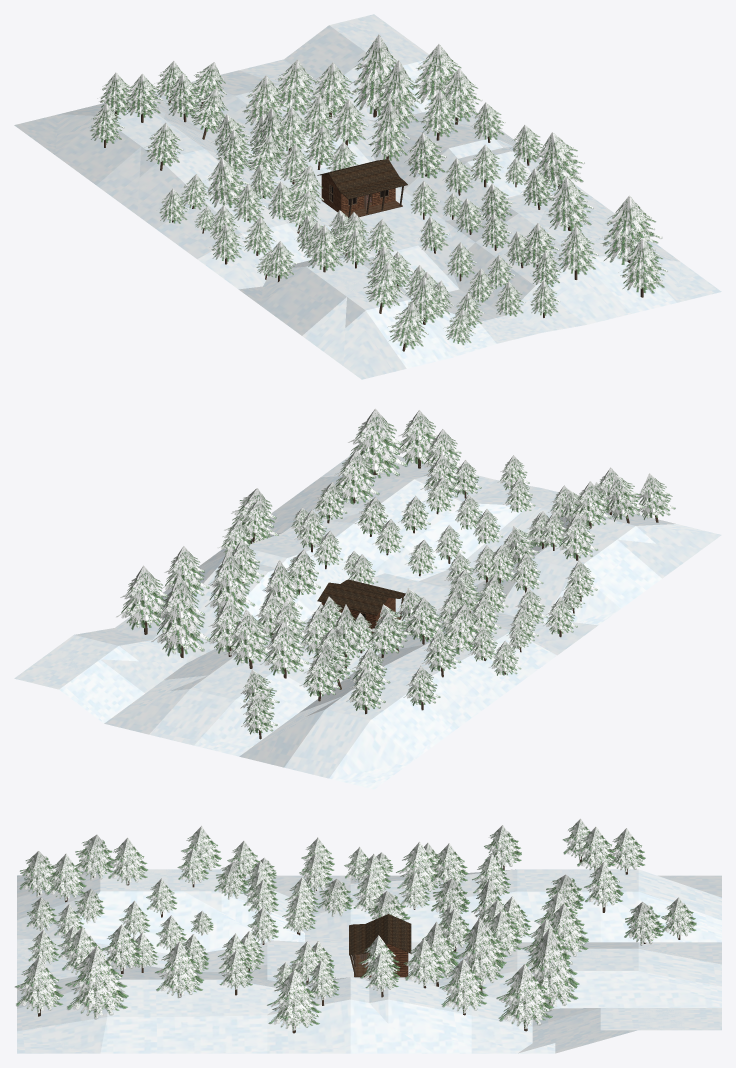
The model's file is mountainPlane.gltf.
The picture shows the model from 3 angles, top to bottom: view 1: azimuth 30°, elevation 25°; view 2: azimuth 150°, elevation 25°; view 3: azimuth 270°, elevation 25°; orthographic projection.
Parts seen in each view (by area): view 1: Plane.002, Plane.001, tree.097, tree.106, roof, tree.098, tree.101, tree.096, tree.095, tree.107, tree.032, tree.108 (+56 smaller); view 2: Plane.001, Plane.002, tree.106, tree.097, tree.107, roof, tree.101, tree.108, tree.095, tree.104, tree.096, tree.038 (+49 smaller); view 3: Plane.002, Plane.001, tree.097, tree.106, tree.107, tree.098, roof, tree.101, tree.096, tree.095, tree.102, tree.108 (+59 smaller).
Boxes of the visible parts, <box> form: Plane.002: <box>33,28,721,379</box>; Plane.001: <box>14,14,702,365</box>; tree.097: <box>599,195,662,264</box>; tree.106: <box>348,34,397,117</box>; roof: <box>317,159,407,199</box>; tree.098: <box>532,132,584,190</box>; tree.101: <box>372,60,421,128</box>; tree.096: <box>618,238,667,297</box>; tree.095: <box>545,177,593,231</box>; tree.107: <box>411,44,461,103</box>; tree.032: <box>367,101,409,161</box>; tree.108: <box>276,59,318,114</box>; Plane.001: <box>14,461,702,789</box>; Plane.002: <box>33,454,721,742</box>; tree.106: <box>151,574,210,657</box>; tree.097: <box>343,408,407,479</box>; tree.107: <box>116,565,168,634</box>; roof: <box>317,579,405,615</box>; tree.101: <box>205,549,254,614</box>; tree.108: <box>224,609,270,668</box>; tree.095: <box>334,450,379,504</box>; tree.104: <box>260,621,309,678</box>; tree.096: <box>398,410,437,468</box>; tree.038: <box>442,604,479,654</box>; Plane.002: <box>17,869,684,1053</box>; Plane.001: <box>55,869,721,1053</box>; tree.097: <box>65,946,128,1019</box>; tree.106: <box>528,927,579,1010</box>; tree.107: <box>496,964,553,1031</box>; tree.098: <box>267,969,321,1033</box>; roof: <box>349,914,411,955</box>; tree.101: <box>455,917,504,991</box>; tree.096: <box>15,956,63,1016</box>; tree.095: <box>155,941,203,997</box>; tree.102: <box>440,959,488,1015</box>; tree.108: <box>547,903,588,956</box>.
Size of the model in its own units: 47.24 by 12.73 by 78.9.
15 materials, 14 textured.
